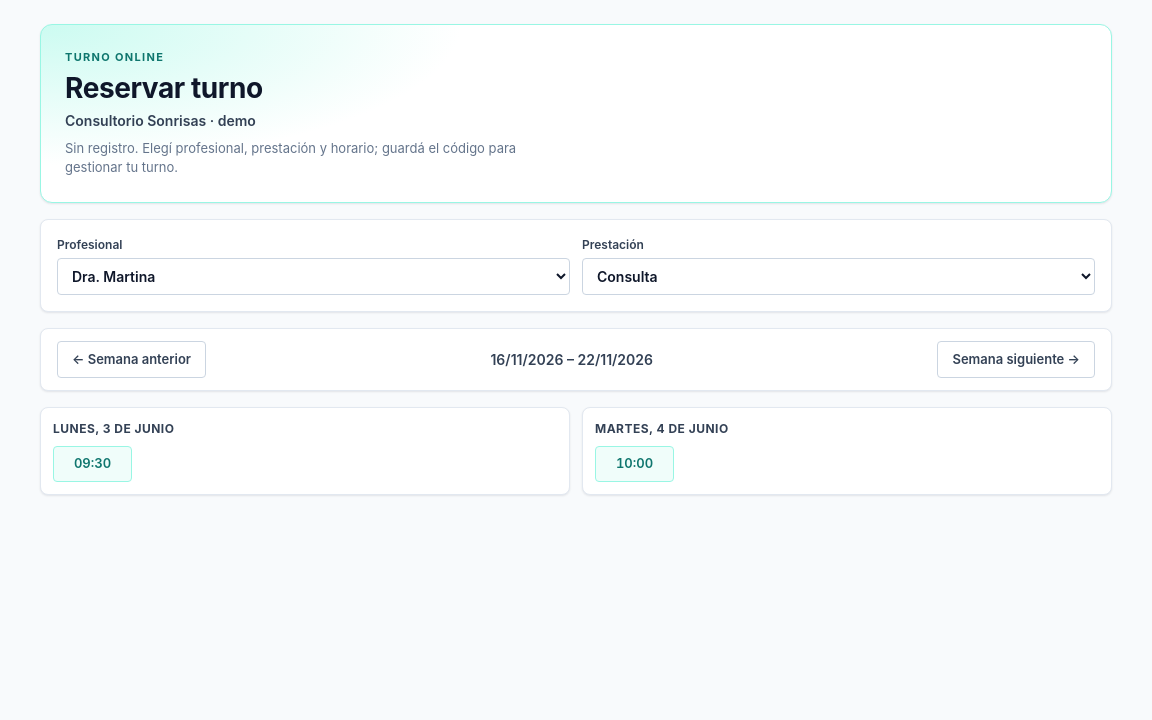
Scenario: turnero público › muestra un mensaje amigable cuando el horario se ocupó (409)
Click the button "09:30": coordinates (92, 464) [53, 446, 132, 482]
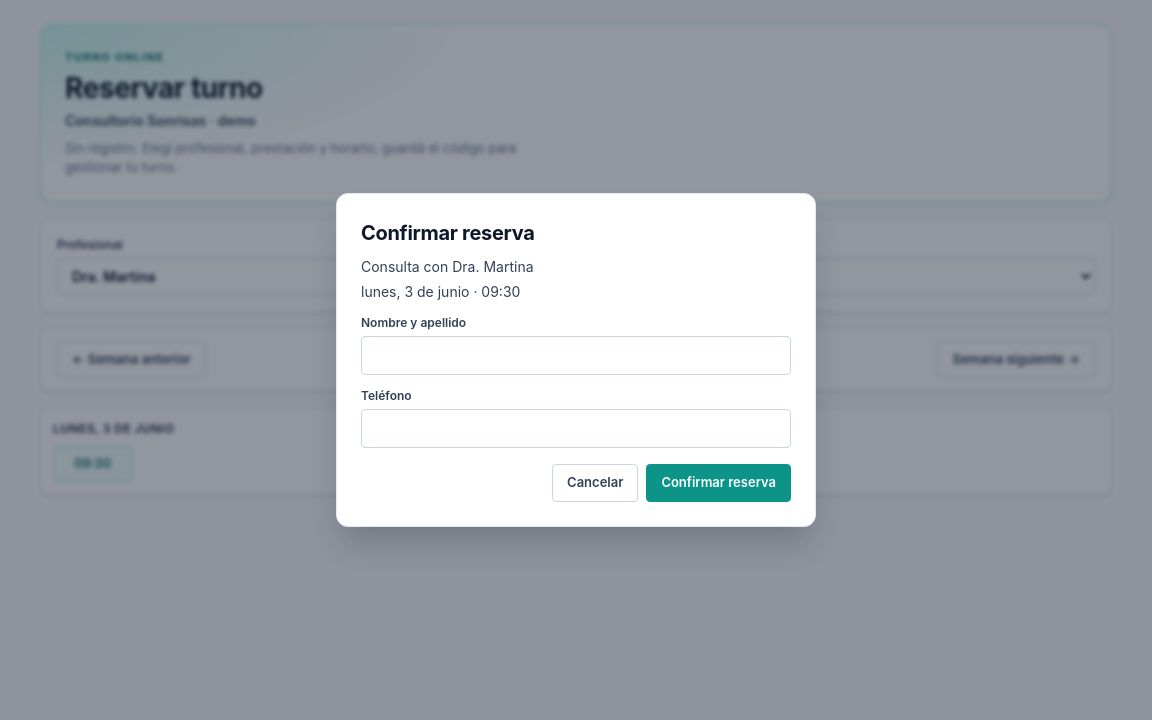
In the field labelled "Nombre y apellido": coordinates (576, 356) [361, 336, 791, 375], type "Ana Ficticia"
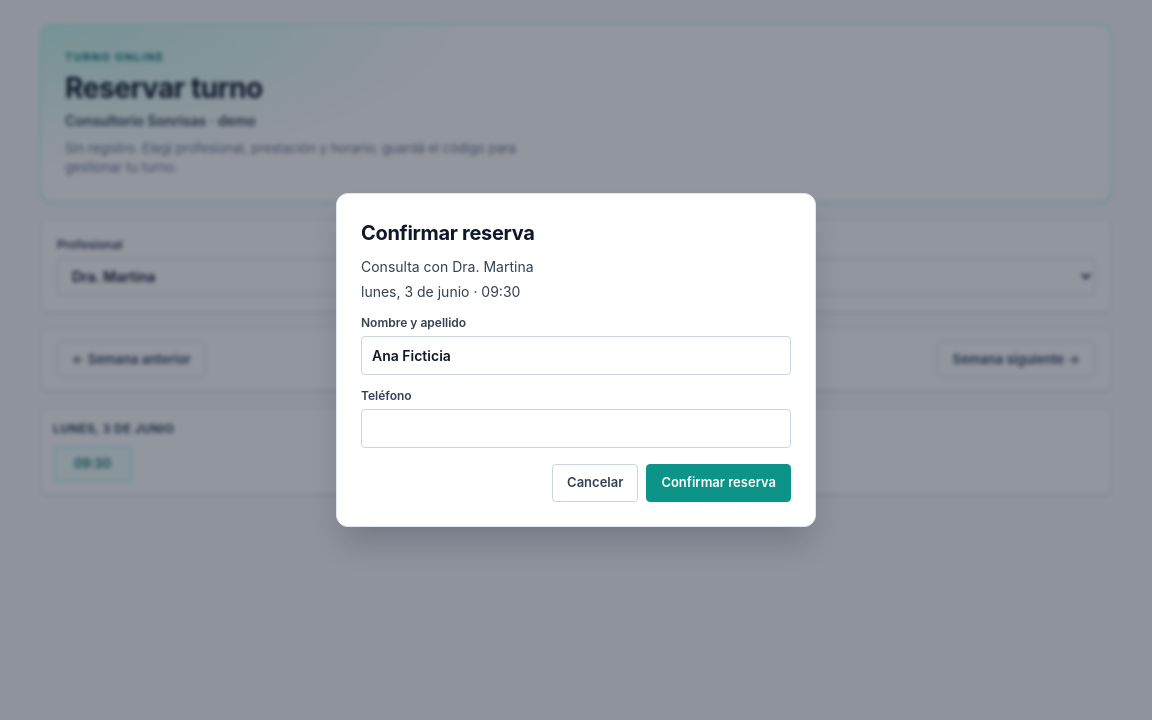
In the field labelled "Teléfono": coordinates (576, 429) [361, 409, 791, 448], type "1155550001"
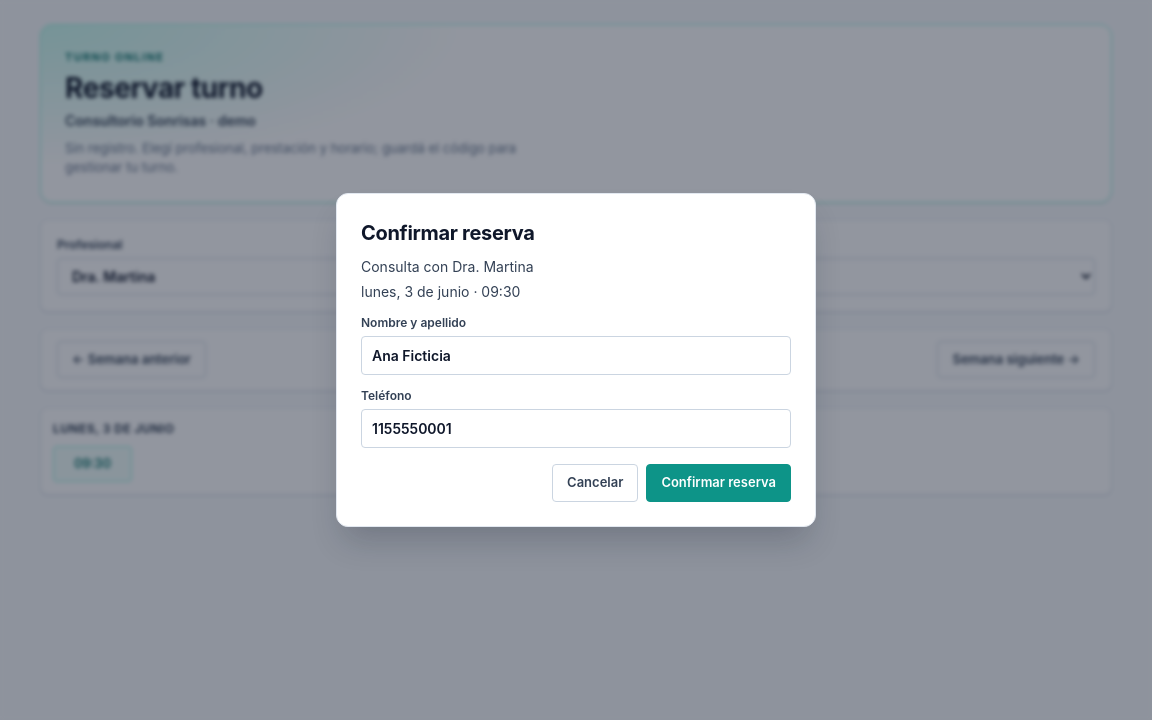
Click the button "Confirmar reserva": coordinates (719, 483) [646, 464, 791, 502]
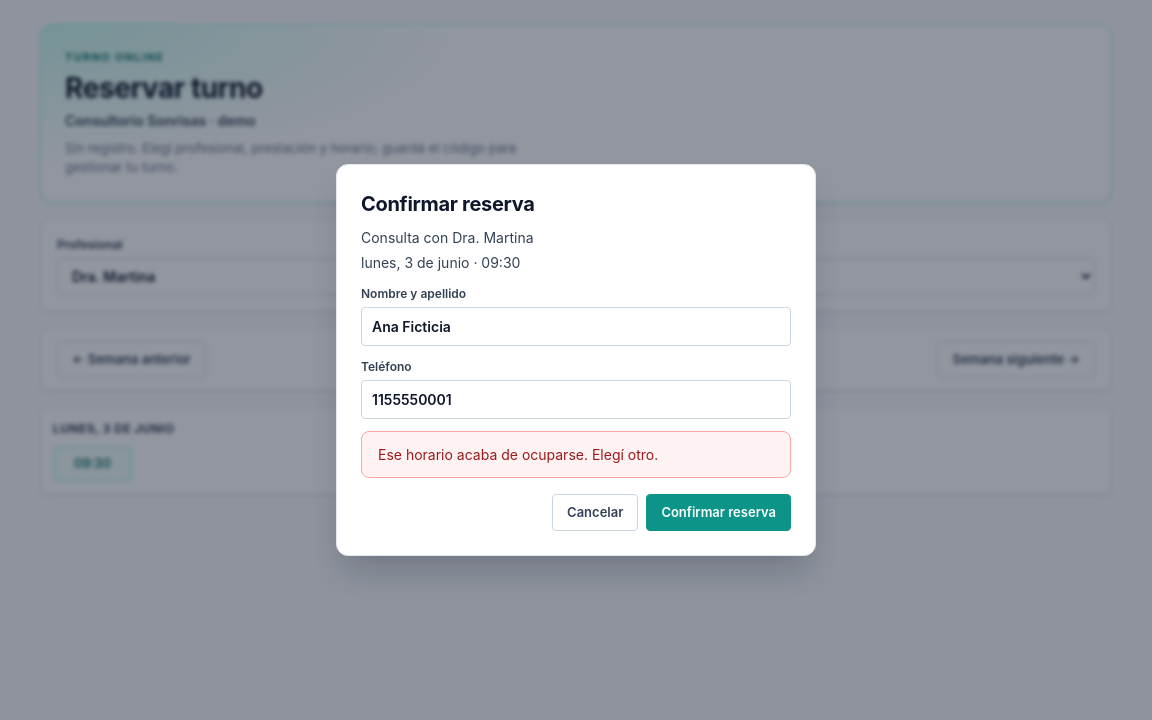
Result: the message reads "Ese horario acaba de ocuparse. Elegí otro." at [378, 446, 658, 463]
